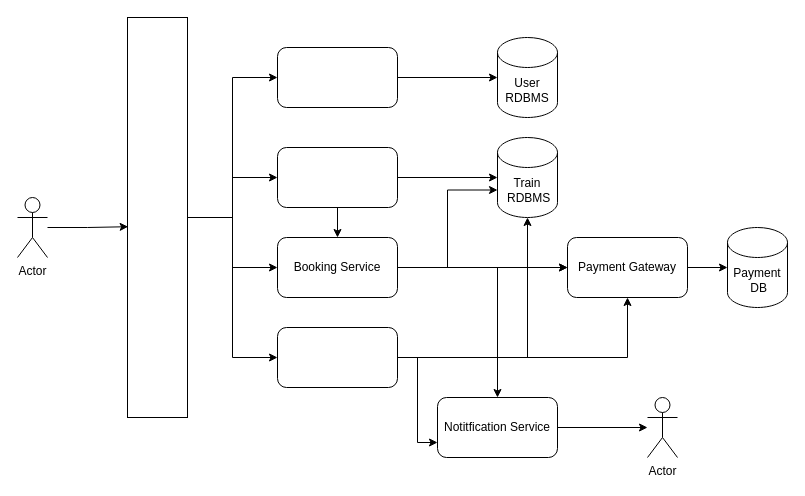
This 805x496 diagram has some shape labels left out. Here are the shapes that lost their labels. From the top down, the centre of each, then its label:
At point (337, 77): "User Service".
At point (337, 177): "Train Serach".
At point (157, 217): "Load Balancer".
At point (337, 357): "Cancel Booking Service".
